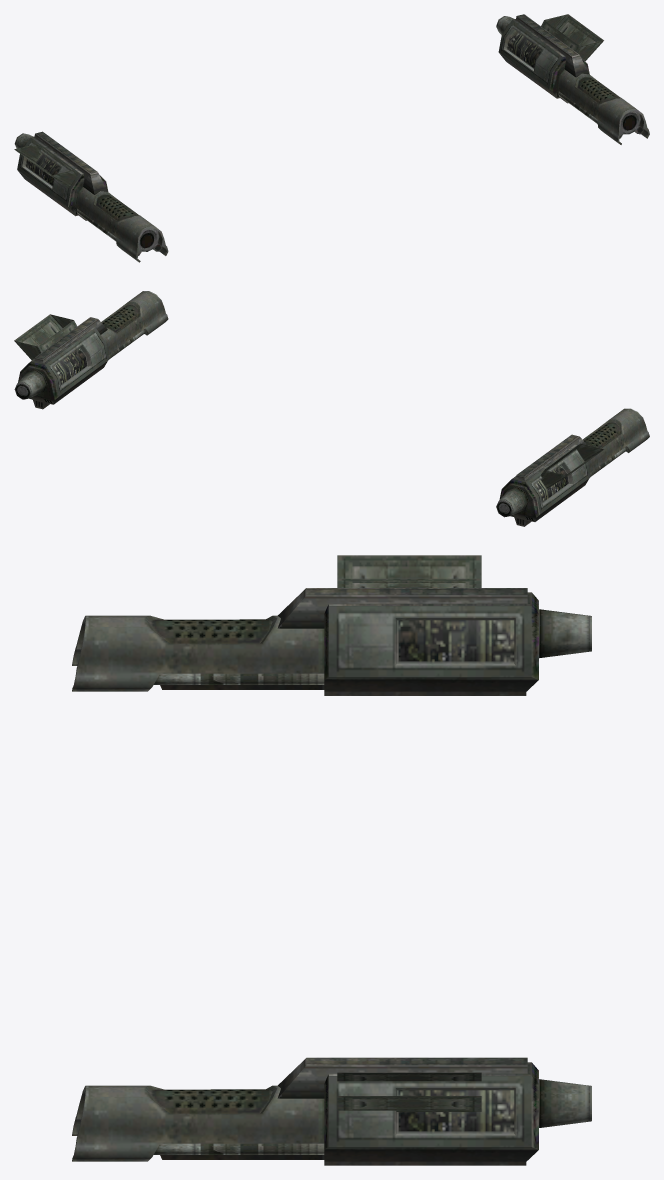
Rendered from black_sun_fighter_heavy_weapon3_s01_l0.fbx.
The picture shows the model from 3 angles, top to bottom: view 1: azimuth 30°, elevation 25°; view 2: azimuth 150°, elevation 25°; view 3: azimuth 270°, elevation 25°; orthographic projection. The views are drawn at different scales.
Visible parts, largest first — view 1: mesh_node; view 2: mesh_node; view 3: mesh_node.
Part boxes in pixels (left/top/right/bottom): mesh_node: left=14, top=14, right=649, bottom=262; mesh_node: left=14, top=291, right=649, bottom=526; mesh_node: left=72, top=555, right=591, bottom=1165.
Size of the model in its own units: 13.91 by 1.22 by 5.66.
1 material, 1 textured.
